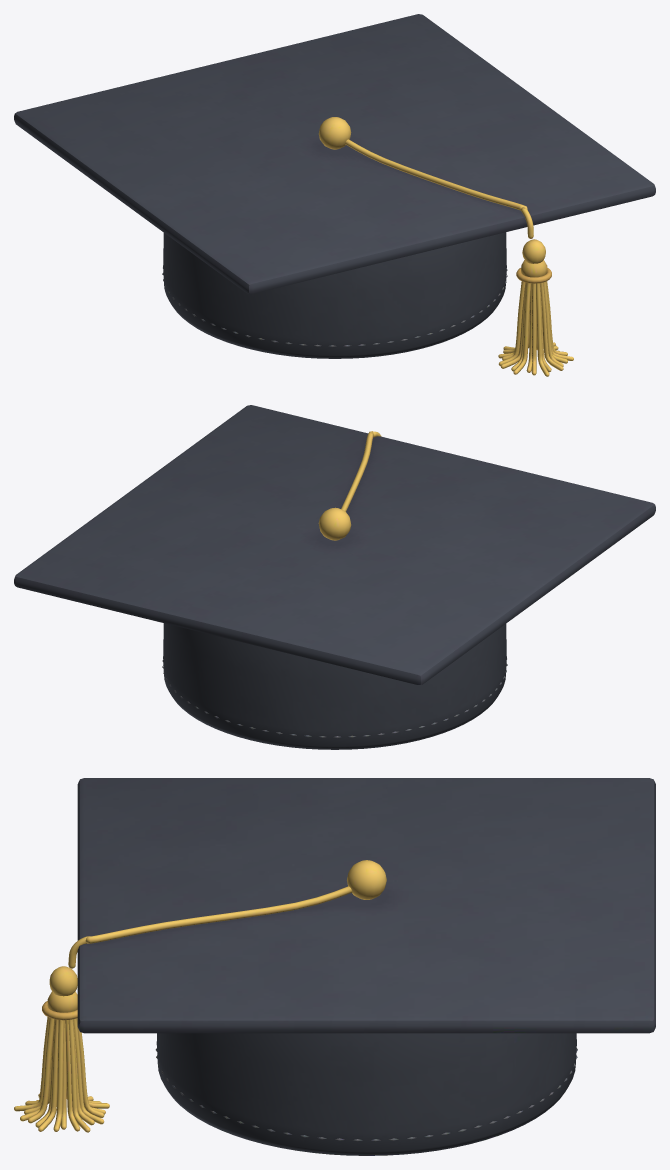
Rendered from graduation-cap.glb.
3 views of the same model, one above another, from view 1: azimuth 30°, elevation 25°; view 2: azimuth 150°, elevation 25°; view 3: azimuth 270°, elevation 25° (orthographic). The views are drawn at different scales.
Parts seen in each view (by area): view 1: graduation-cap_body; view 2: graduation-cap_body; view 3: graduation-cap_body.
Boxes of the visible parts, x1,y1,x2,y2 form: graduation-cap_body: [14, 14, 655, 376]; graduation-cap_body: [14, 405, 655, 749]; graduation-cap_body: [14, 778, 655, 1155].
Size of the model in its own units: 0.245 by 0.0973 by 0.272.
1 material, 1 textured.
